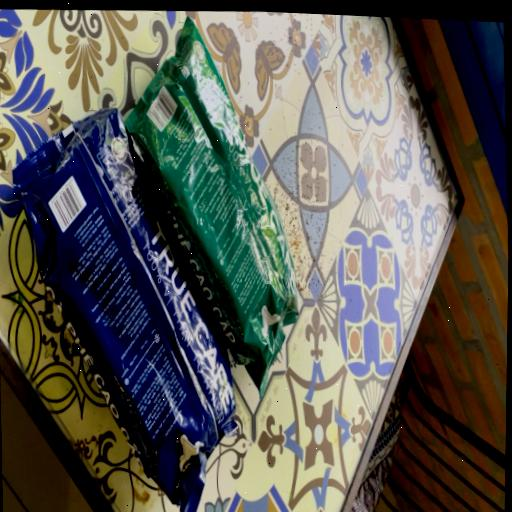cafe_hat: (12, 108, 236, 512)
cafe_xay: (124, 18, 297, 396)
